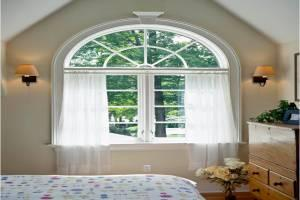window: (54, 20, 240, 143)
